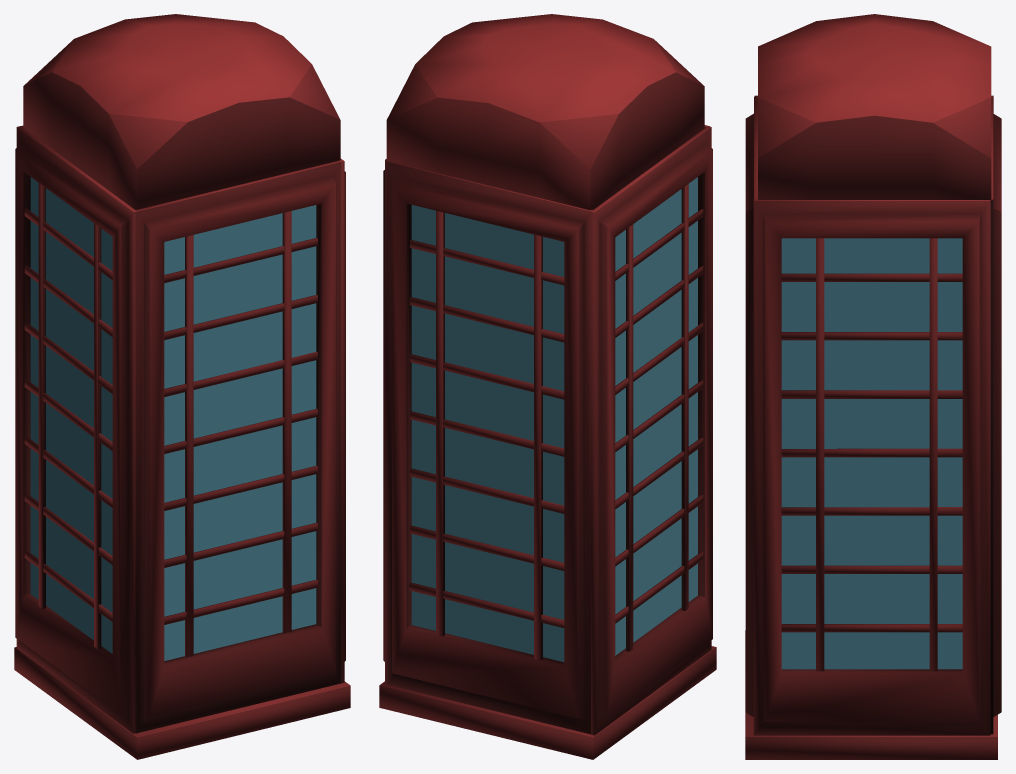
Rendered from furnishings-outdoor-phonebox_v1.glb.
The picture shows the model from 3 angles, left to right: view 1: azimuth 30°, elevation 25°; view 2: azimuth 150°, elevation 25°; view 3: azimuth 270°, elevation 25°; orthographic projection. The views are drawn at different scales.
Visible parts, largest first — view 1: PhoneBox_base, PhoneBox_refl; view 2: PhoneBox_base, PhoneBox_refl; view 3: PhoneBox_base, PhoneBox_refl.
Boxes of the visible parts, bbox=[...] form: PhoneBox_base: bbox=[14, 14, 350, 759]; PhoneBox_refl: bbox=[30, 177, 316, 660]; PhoneBox_base: bbox=[379, 14, 716, 759]; PhoneBox_refl: bbox=[411, 177, 697, 661]; PhoneBox_base: bbox=[745, 14, 1001, 759]; PhoneBox_refl: bbox=[781, 238, 962, 669].
Size of the model in its own units: 0.9569 by 2.61 by 0.9218.
